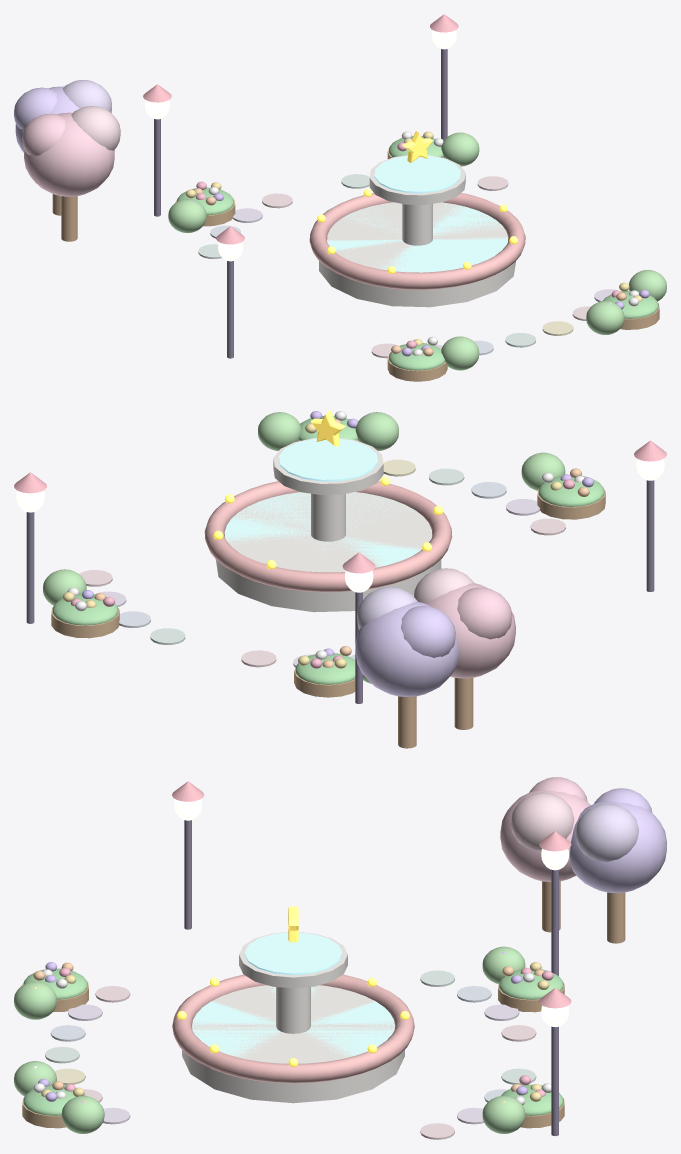
The model's file is malang_plaza.glb.
The picture shows the model from 3 angles, top to bottom: view 1: azimuth 30°, elevation 25°; view 2: azimuth 150°, elevation 25°; view 3: azimuth 270°, elevation 25°; orthographic projection. The views are drawn at different scales.
Parts seen in each view (by area): view 1: PZ_decor, PZ_fountain; view 2: PZ_decor, PZ_fountain; view 3: PZ_decor, PZ_fountain.
Boxes of the visible parts, bbox=[...] form: PZ_decor: bbox=[14, 14, 666, 381]; PZ_fountain: bbox=[309, 131, 525, 307]; PZ_decor: bbox=[14, 411, 666, 748]; PZ_fountain: bbox=[204, 410, 452, 612]; PZ_decor: bbox=[14, 777, 666, 1139]; PZ_fountain: bbox=[172, 906, 414, 1103].
Size of the model in its own units: 10.24 by 3.06 by 12.01.
